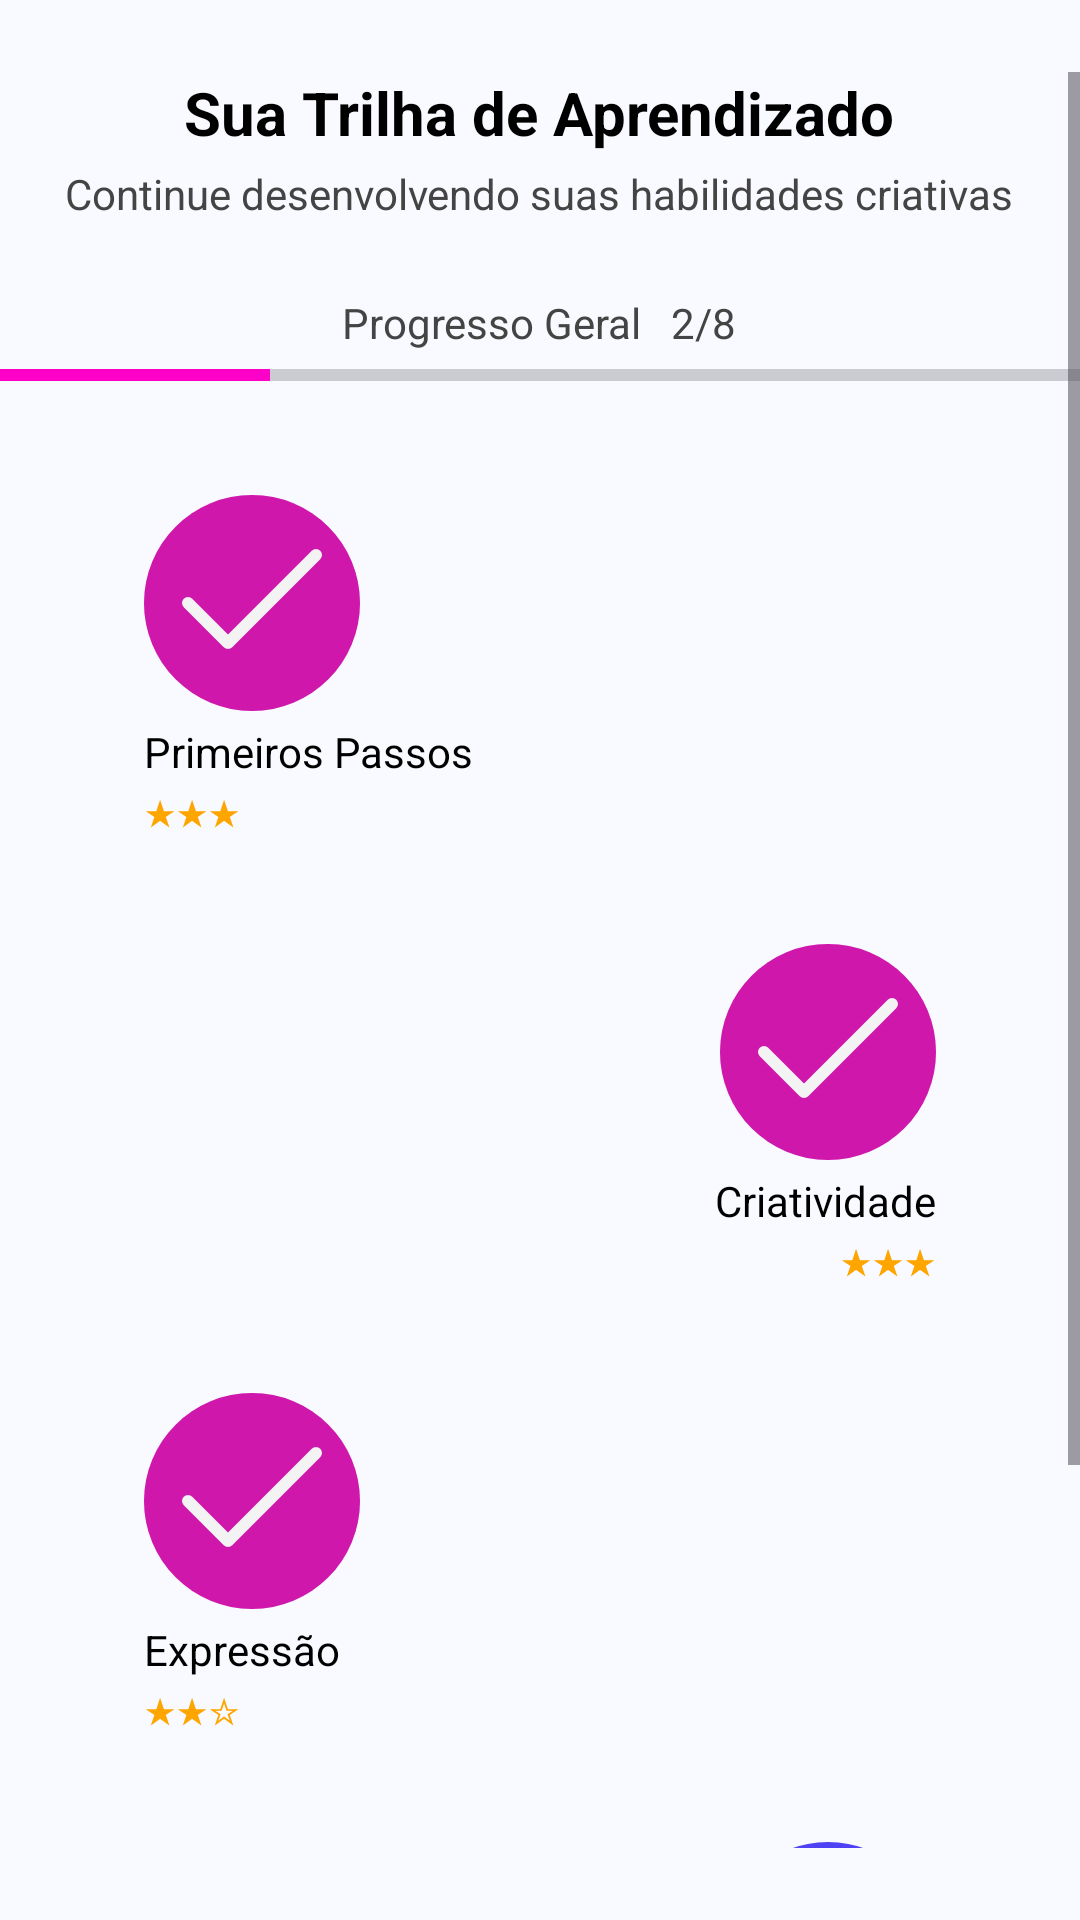

Named icons in this screenshot (1080 × 1920) and their bounding boxes, (x1, y1, x2, y2):
circle checked: (144, 495, 360, 711), (720, 944, 936, 1160), (144, 1393, 360, 1609)
